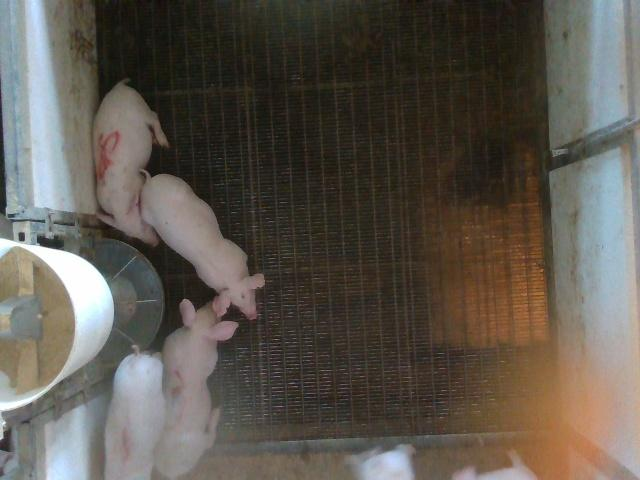pig-1: (154, 299, 238, 478), (105, 350, 165, 478)
pig-5: (94, 80, 169, 246)
